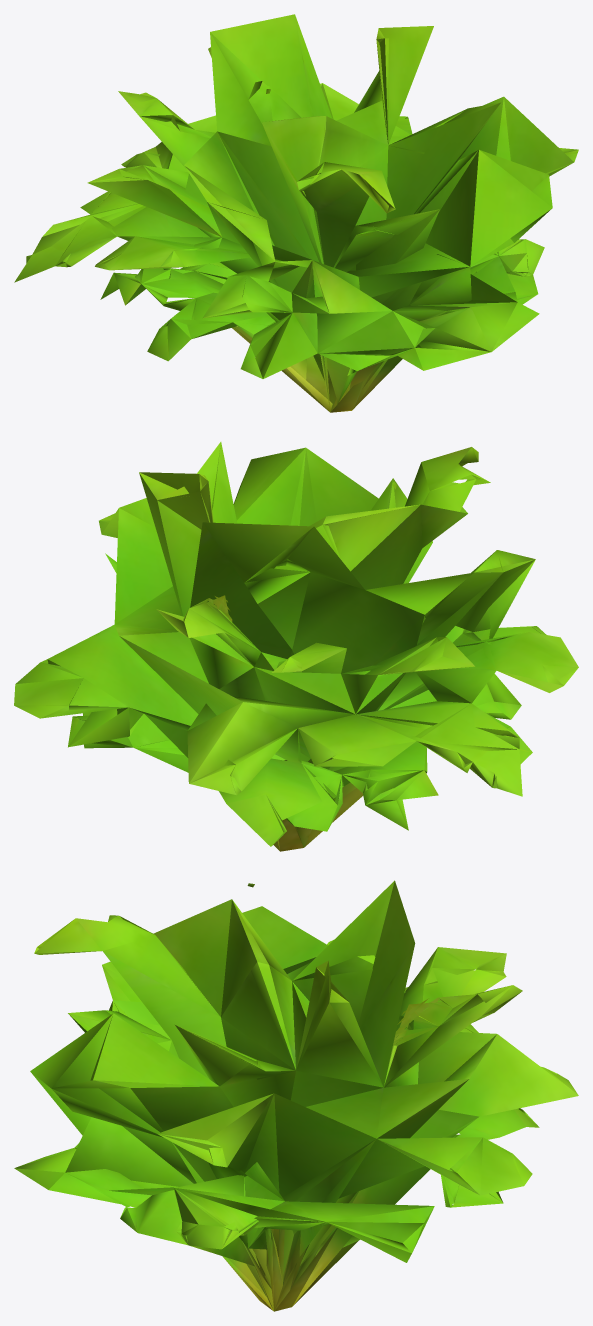
The model's file is jungleFern.glb.
The picture shows the model from 3 angles, top to bottom: view 1: azimuth 30°, elevation 25°; view 2: azimuth 150°, elevation 25°; view 3: azimuth 270°, elevation 25°; orthographic projection. The views are drawn at different scales.
Parts seen in each view (by area): view 1: model; view 2: model; view 3: model.
Boxes of the visible parts, left/top/right/bottom form: model: left=14, top=14, right=578, bottom=412; model: left=14, top=442, right=578, bottom=851; model: left=14, top=880, right=578, bottom=1311.
Size of the model in its own units: 1.66 by 1.18 by 1.57.
Materials: 1 (1 with a texture image).
